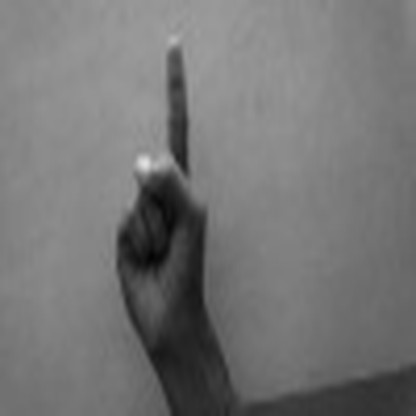d: (107, 33, 222, 353)
